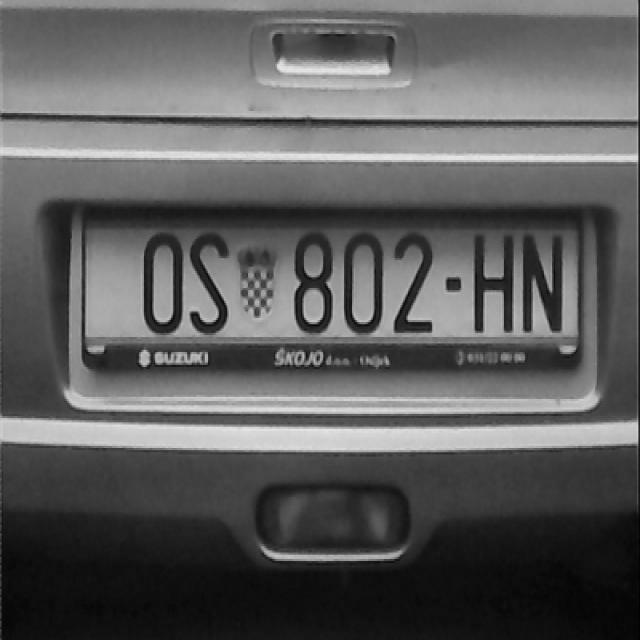License_Plate: (82, 202, 579, 376)
